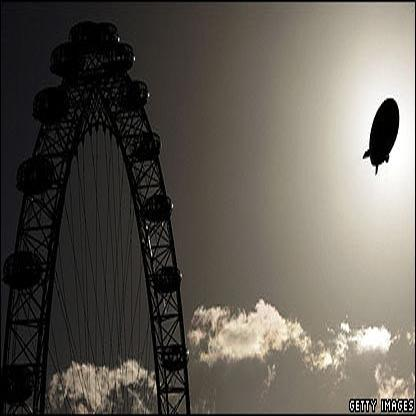Airship: (364, 92, 403, 181)
